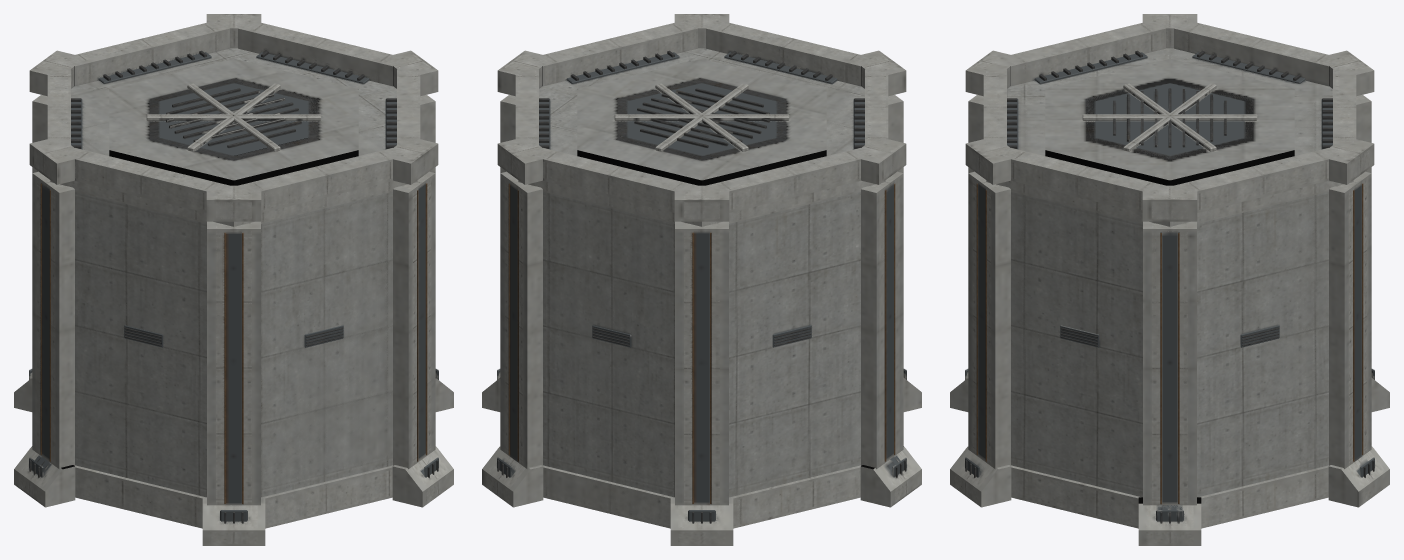
The model's file is pier.glb.
3 renders of one model, left to right at view 1: azimuth 30°, elevation 25°; view 2: azimuth 150°, elevation 25°; view 3: azimuth 270°, elevation 25°, orthographic.
Parts seen in each view (by area): view 1: pier-geometry0, pier-geometry1.001; view 2: pier-geometry0, pier-geometry1.001; view 3: pier-geometry0, pier-geometry1.001.
Boxes of the visible parts, left/top/right/bottom form: pier-geometry0: left=18, top=15, right=448, bottom=544; pier-geometry1.001: left=14, top=14, right=453, bottom=545; pier-geometry0: left=486, top=15, right=917, bottom=544; pier-geometry1.001: left=482, top=14, right=921, bottom=545; pier-geometry0: left=954, top=15, right=1384, bottom=544; pier-geometry1.001: left=950, top=14, right=1389, bottom=545.
Bounding box in the file's own units: 68.04 × 54 × 63.43.
Materials: 7 (7 with a texture image).
